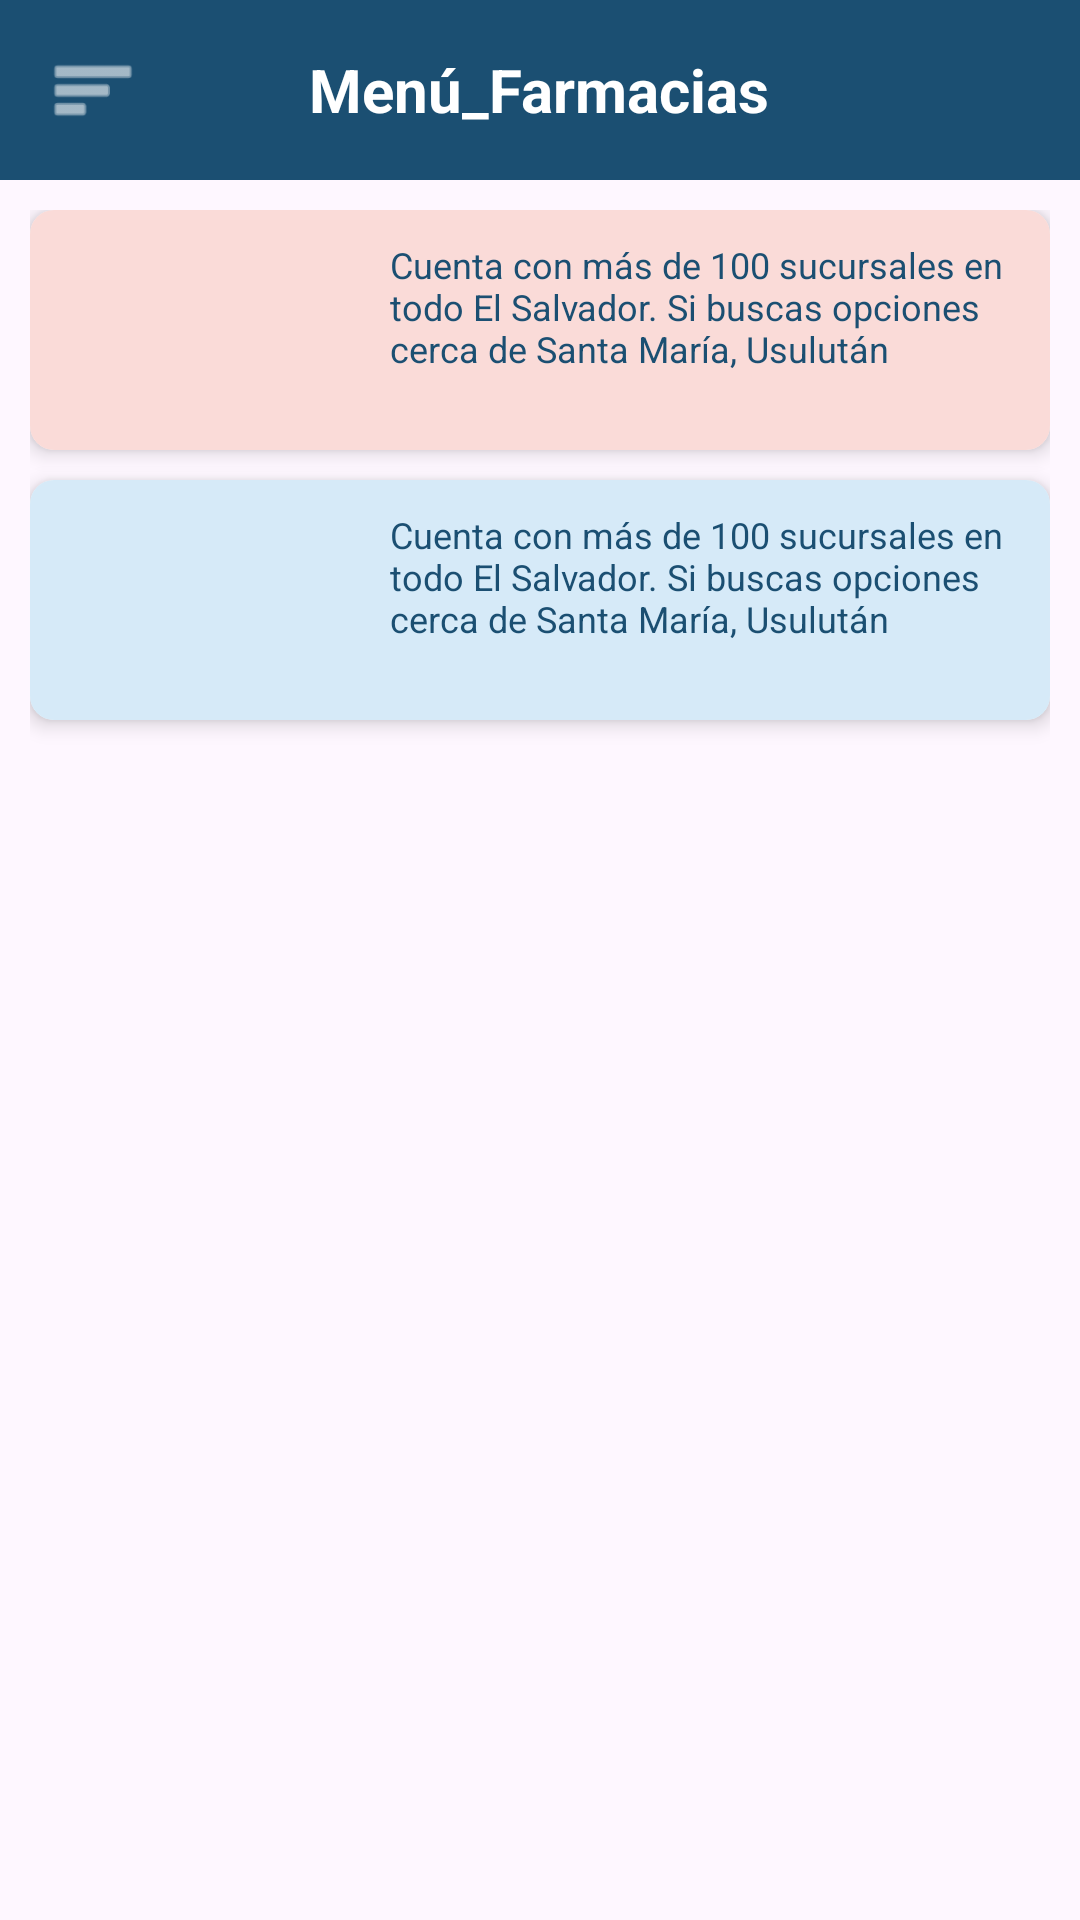

Icon click points for this 1080x1920 phone screenshot, format [x,y]:
sort by size: [93,90]
